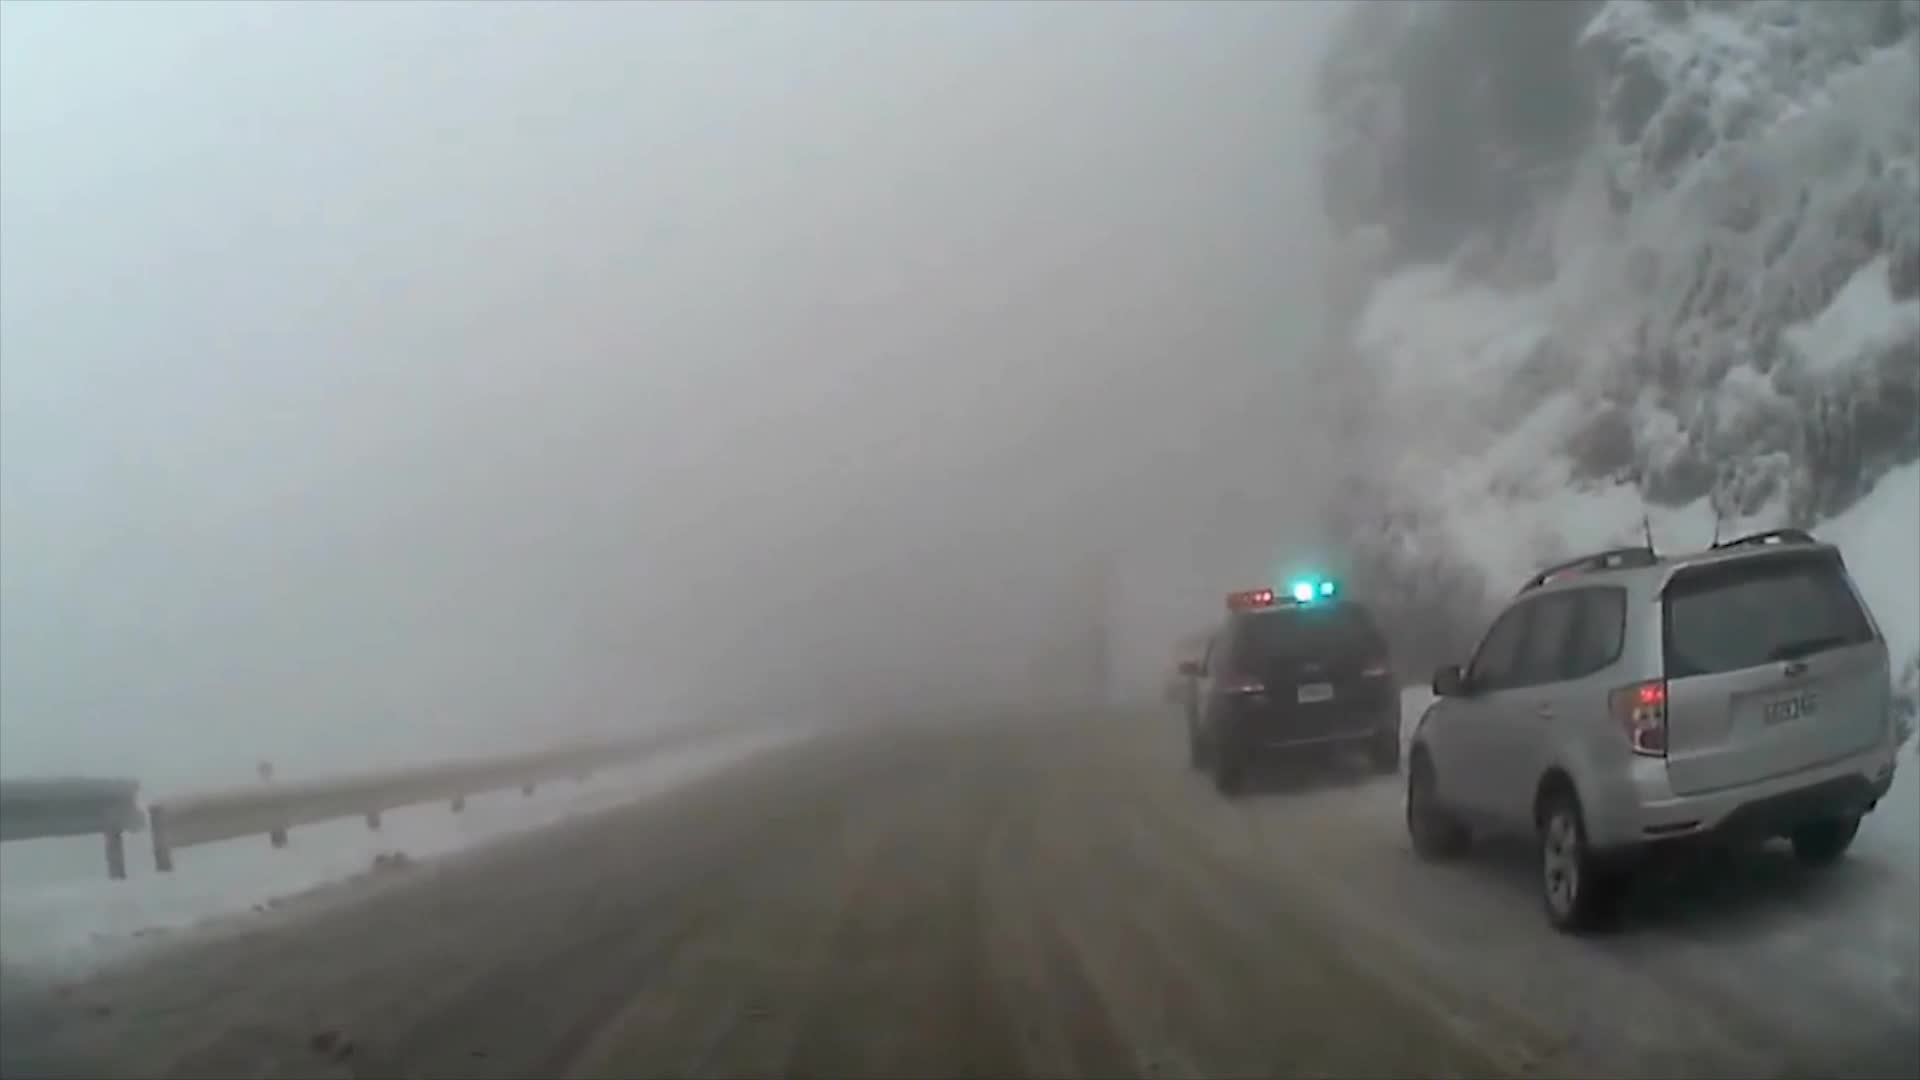vehicle: (1403, 524, 1900, 934), (1175, 582, 1400, 796)
